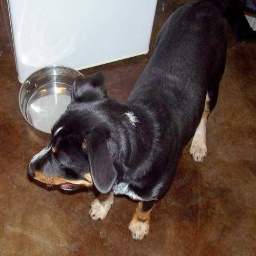dog: (52, 0, 234, 245)
